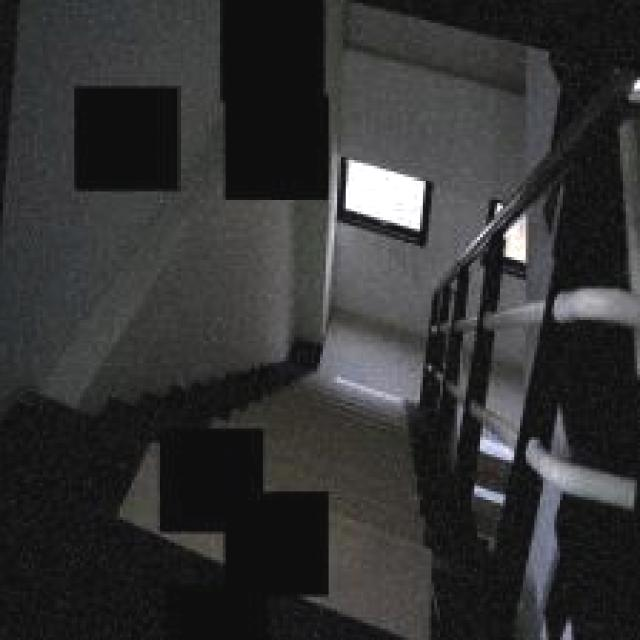downstair: (304, 324, 418, 501)
